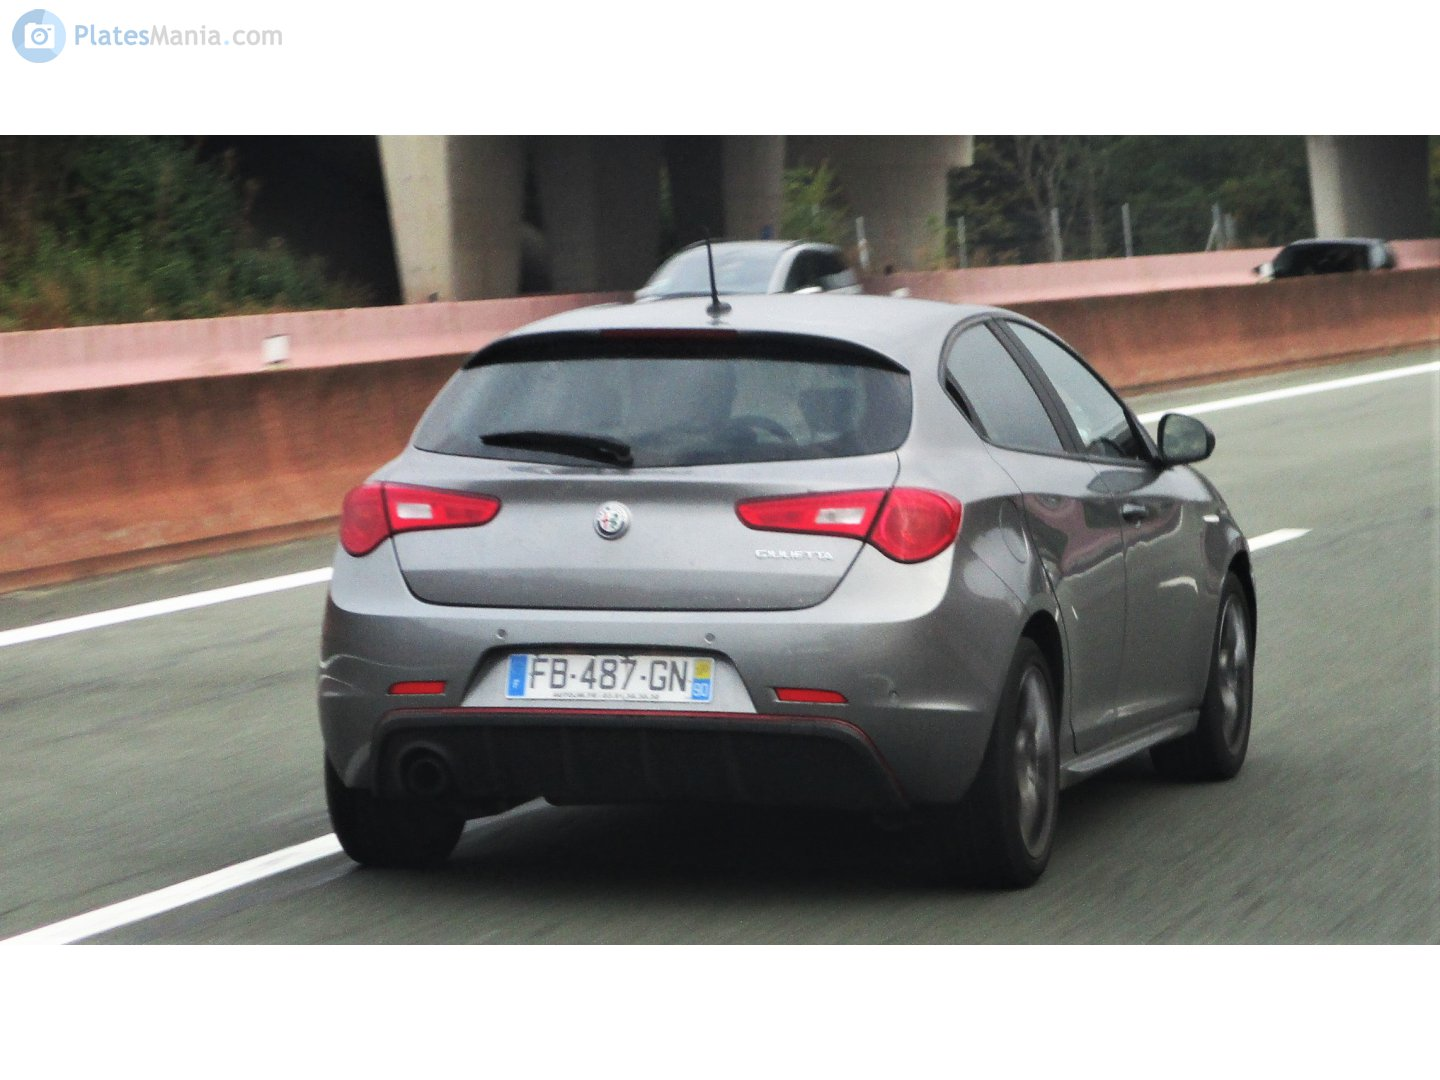licence plate: (502, 647, 715, 707)
